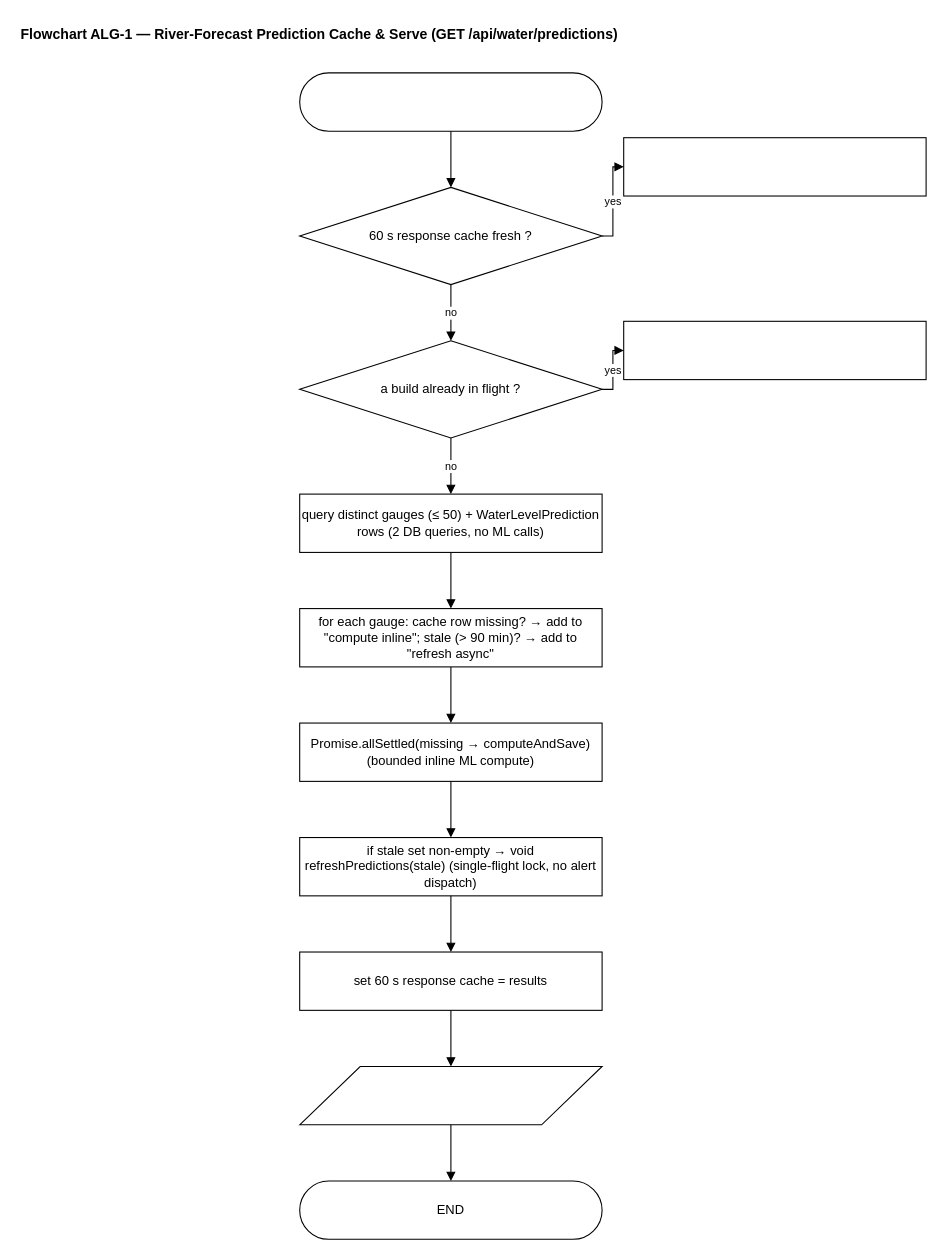
Image size: 945x1258. Some labels were removed from this diagram. Each missing label, with the centre of its shape:
"await the in-flight promise → return" belongs at (x=774, y=350).
"return cached body" belongs at (x=774, y=166).
"return results array (one object per gauge + predictionStale flag)" belongs at (x=450, y=1095).
"START — GET /api/water/predictions" belongs at (x=450, y=101).
